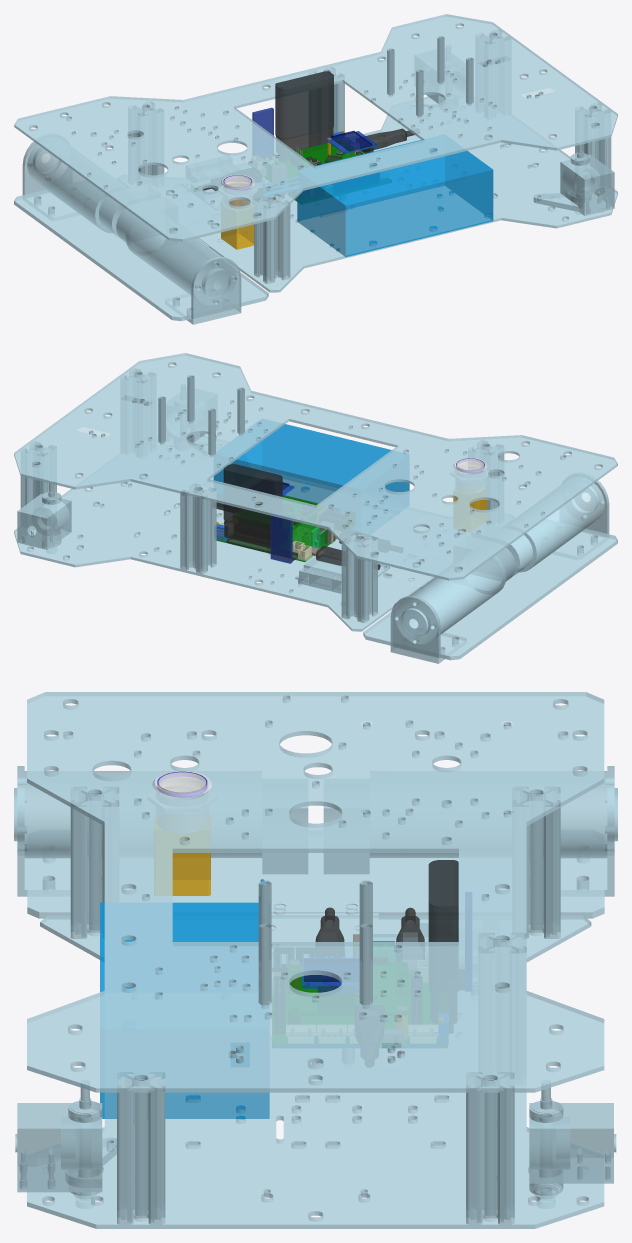
File: chassis.dae
3 views of the same model, one above another, from view 1: azimuth 30°, elevation 25°; view 2: azimuth 150°, elevation 25°; view 3: azimuth 270°, elevation 25° (orthographic). The views are drawn at different scales.
Parts seen in each view (by area): view 1: chassis; view 2: chassis; view 3: chassis.
Boxes of the visible parts, <box> form: chassis: <box>14,14,617,324</box>; chassis: <box>14,353,617,663</box>; chassis: <box>14,692,617,1228</box>.
Size of the model in its own units: 0.3865 by 0.104 by 0.249.
